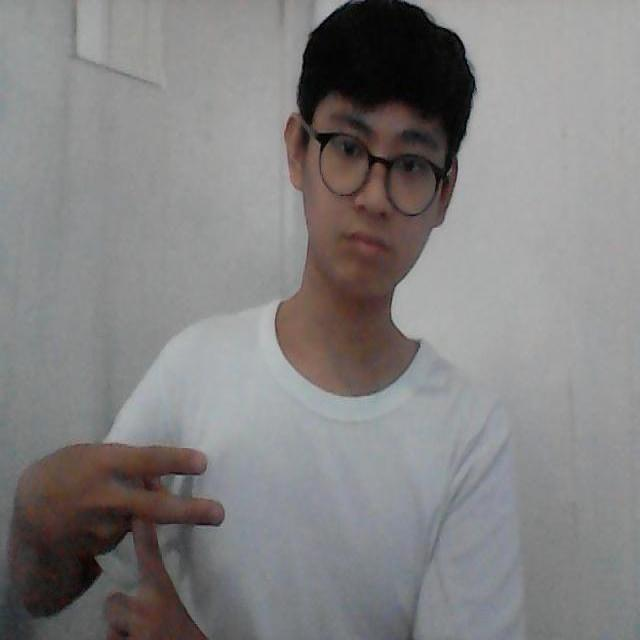F: (63, 418, 232, 640)
